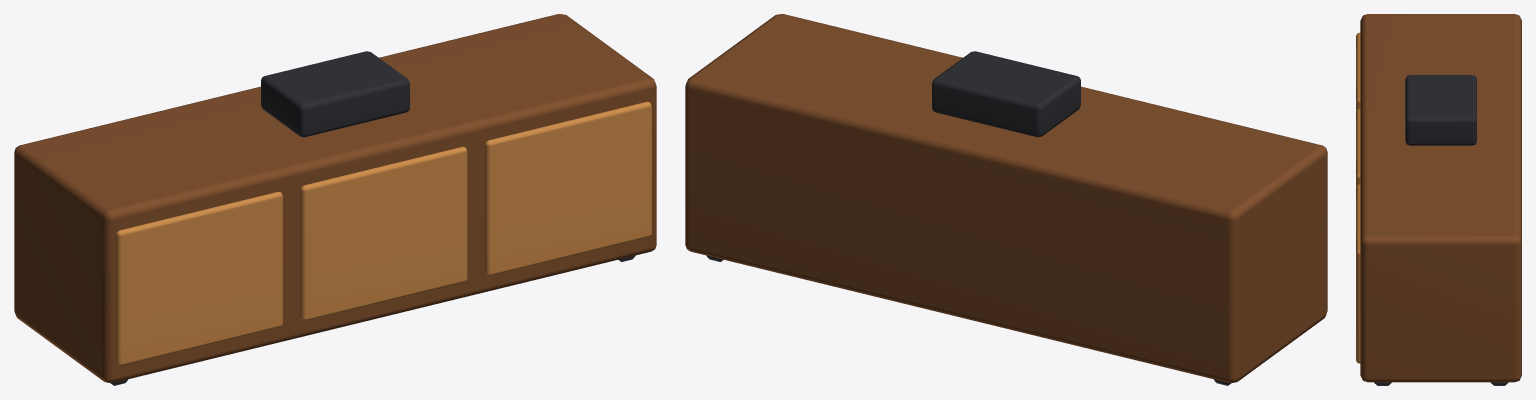
Rendered from TVStand.fbx.
3 renders of one model, left to right at view 1: azimuth 30°, elevation 25°; view 2: azimuth 150°, elevation 25°; view 3: azimuth 270°, elevation 25°, orthographic. The views are drawn at different scales.
Visible parts, largest first — view 1: TVStand; view 2: TVStand; view 3: TVStand.
Part boxes in pixels (bbox=[...]): TVStand: bbox=[14, 14, 656, 385]; TVStand: bbox=[685, 14, 1327, 385]; TVStand: bbox=[1356, 14, 1521, 385].
Size of the model in its own units: 6 by 2.25 by 1.85.
1 material, 1 textured.
